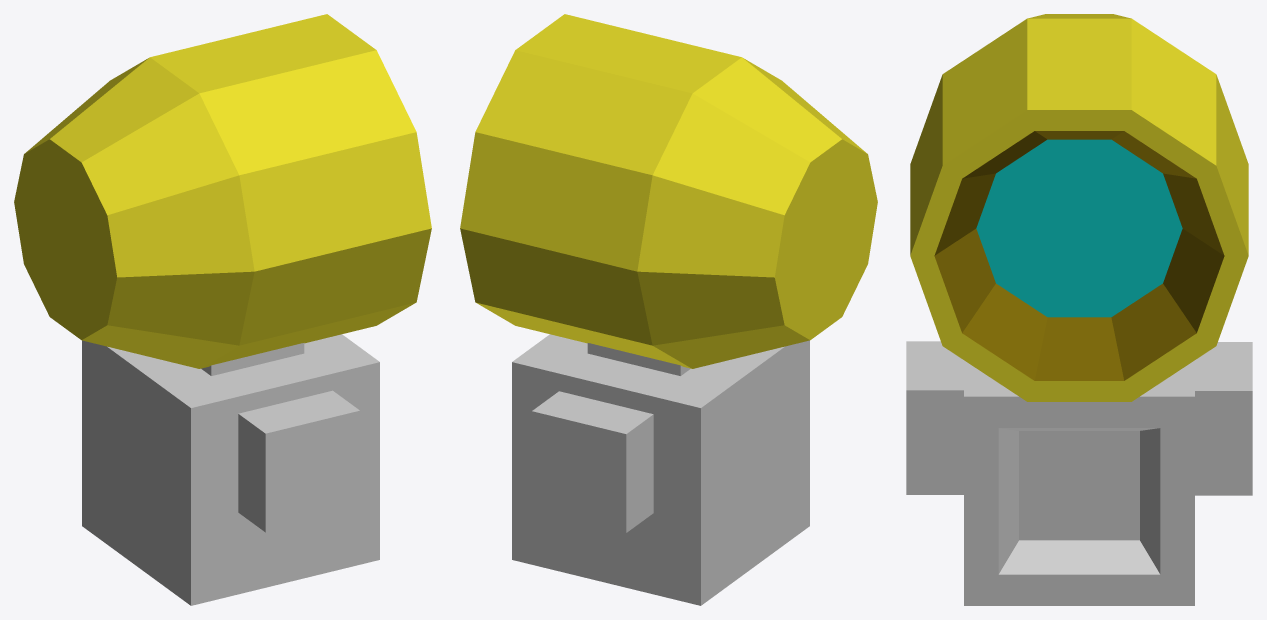
The model's file is Explorador.fbx.
3 views of the same model, side by side, from view 1: azimuth 30°, elevation 25°; view 2: azimuth 150°, elevation 25°; view 3: azimuth 270°, elevation 25° (orthographic). The views are drawn at different scales.
Parts seen in each view (by area): view 1: Cylinder, Cube; view 2: Cylinder, Cube; view 3: Cylinder, Cube.
Boxes of the visible parts, x1=… form: Cylinder: x1=14, y1=14, x2=431, y2=368; Cube: x1=82, y1=334, x2=379, y2=605; Cylinder: x1=460, y1=14, x2=877, y2=368; Cube: x1=512, y1=334, x2=809, y2=605; Cylinder: x1=910, y1=14, x2=1248, y2=401; Cube: x1=906, y1=341, x2=1252, y2=605.
Size of the model in its own units: 303 by 487 by 300.
